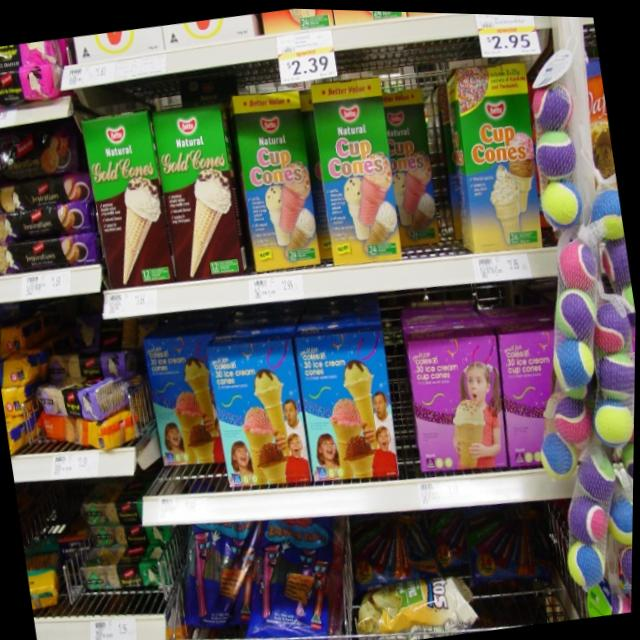q10: (78, 101, 174, 294), (149, 95, 248, 282)
